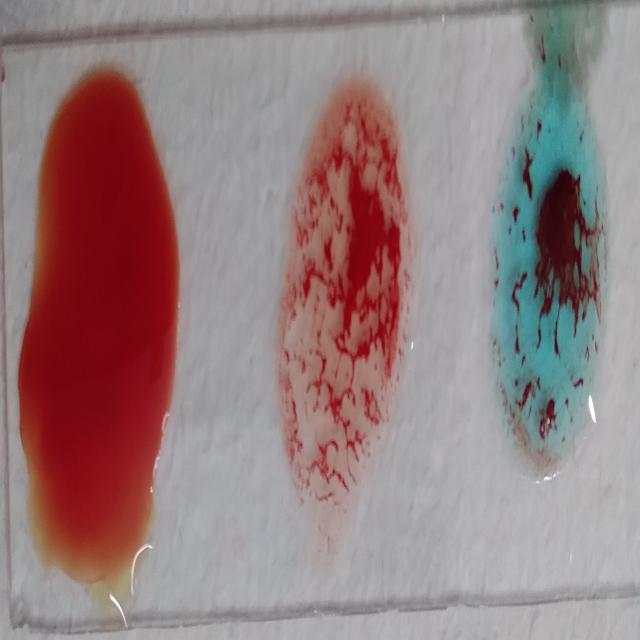A: (492, 66, 606, 478)
D: (284, 87, 402, 512)
